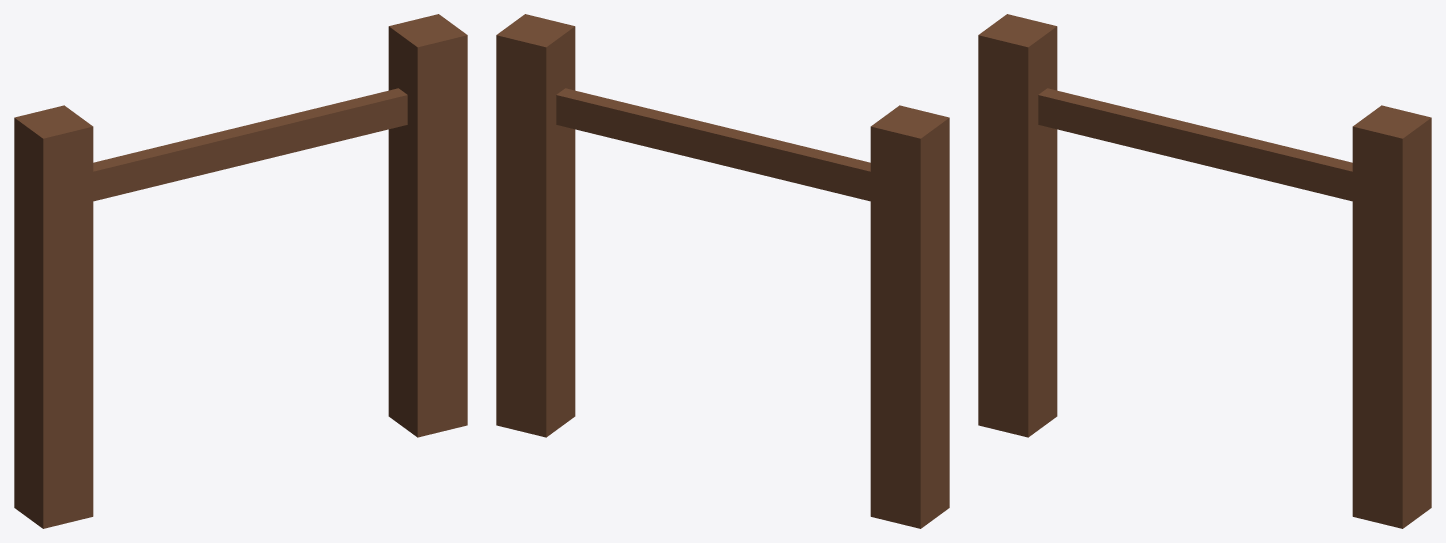
The model's file is Fence.fbx.
The picture shows the model from 3 angles, left to right: view 1: azimuth 30°, elevation 25°; view 2: azimuth 150°, elevation 25°; view 3: azimuth 330°, elevation 25°; orthographic projection.
Visible parts, largest first — view 1: Fence; view 2: Fence; view 3: Fence.
Boxes of the visible parts, box(x1,y1,x2,y2) form: Fence: box(14, 14, 467, 528); Fence: box(496, 14, 949, 528); Fence: box(978, 14, 1431, 528).
Size of the model in its own units: 107 by 94.15 by 12.64.
